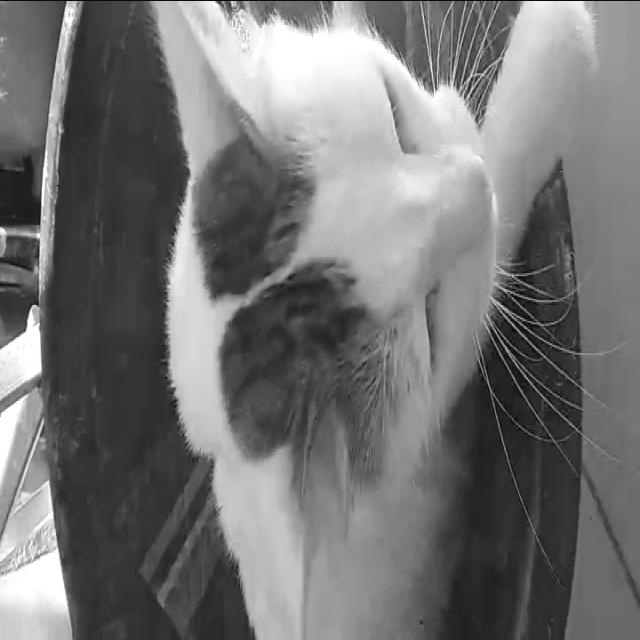Simba: (156, 1, 640, 634)
